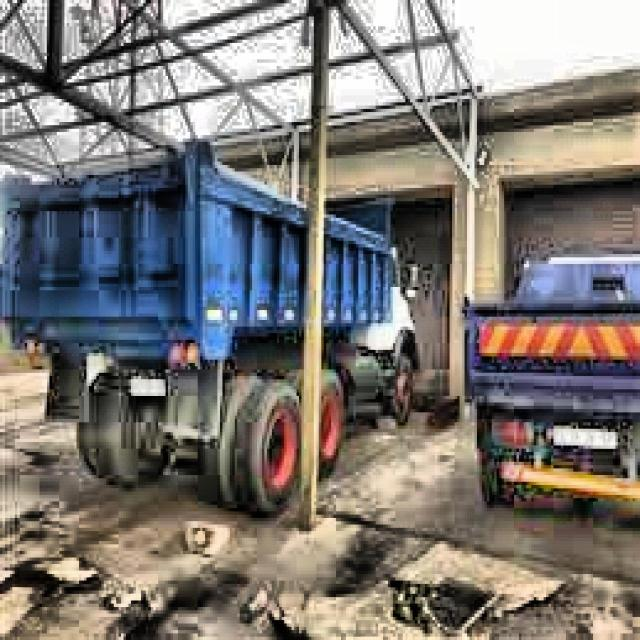dump_truck: (0, 124, 425, 514)
